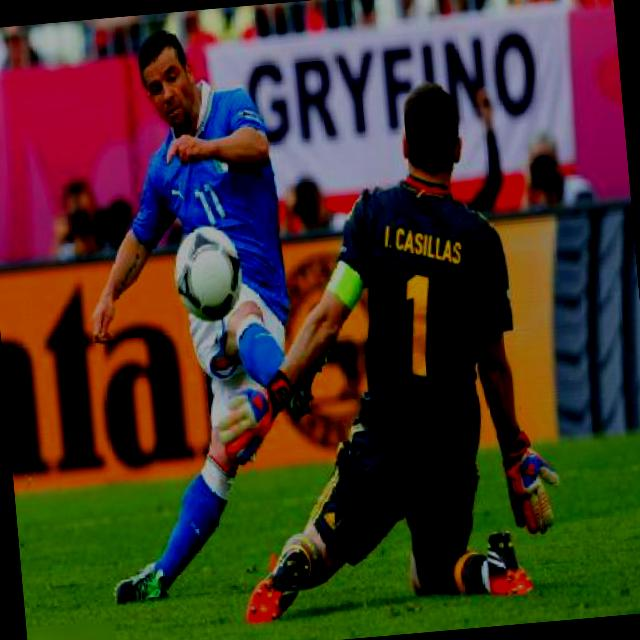Person: (78, 7, 317, 640)
